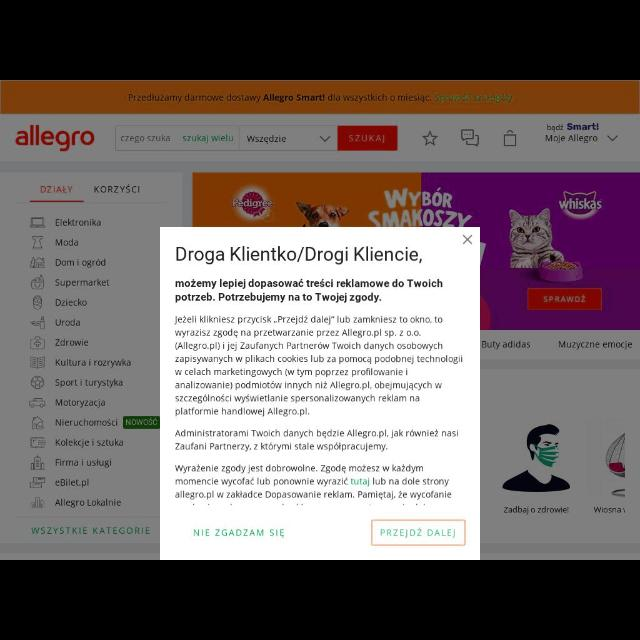icon: (461, 129, 481, 149), (502, 128, 518, 148), (424, 130, 440, 146), (31, 454, 45, 472), (30, 216, 46, 230), (31, 354, 45, 370), (30, 476, 46, 490), (32, 316, 46, 330), (31, 336, 45, 350), (31, 496, 45, 510), (30, 397, 46, 409), (30, 436, 46, 448), (32, 235, 44, 249), (32, 416, 44, 430), (31, 276, 44, 288), (31, 376, 43, 389), (32, 257, 44, 269), (464, 233, 474, 247), (33, 296, 43, 310), (319, 136, 331, 144), (608, 134, 618, 142)
image: (502, 423, 572, 495), (16, 123, 96, 157)
input: (115, 126, 398, 154)
link: (192, 528, 288, 542), (351, 478, 371, 488)
multitab: (6, 173, 184, 200)
panel: (162, 227, 480, 559), (4, 172, 184, 544)
spinner: (240, 126, 338, 148), (546, 122, 622, 148)
text: (174, 314, 466, 416), (176, 464, 457, 502), (175, 429, 459, 453), (176, 280, 444, 304), (126, 92, 514, 108), (175, 244, 425, 266), (31, 526, 151, 536), (544, 124, 600, 140), (56, 358, 130, 369), (504, 504, 570, 516), (56, 417, 120, 429), (56, 378, 124, 388), (56, 498, 122, 508), (54, 439, 124, 448), (184, 135, 236, 147), (92, 184, 142, 196), (558, 340, 632, 348), (56, 279, 110, 289), (56, 258, 108, 268), (54, 398, 106, 408), (56, 459, 112, 468), (248, 134, 288, 146), (482, 340, 530, 350), (39, 182, 75, 195), (55, 218, 101, 228), (122, 134, 172, 142), (55, 338, 89, 348), (56, 479, 90, 489), (55, 318, 81, 328), (55, 300, 87, 308), (54, 240, 80, 246)
textbutton: (372, 520, 466, 546), (527, 287, 601, 311), (340, 125, 398, 151)
toolbar: (1, 114, 639, 164)
